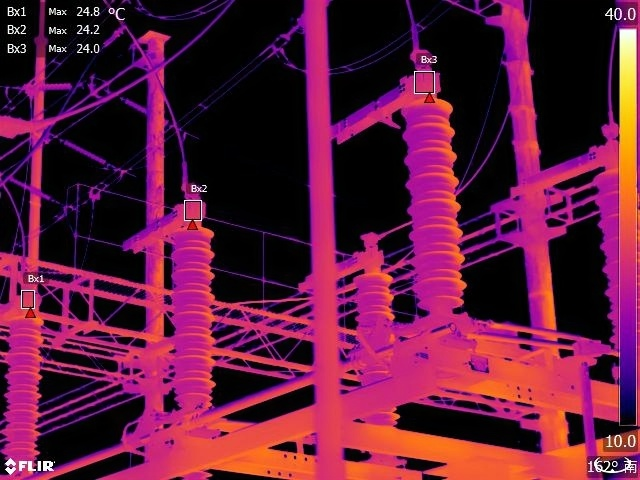post insulator: (403, 98, 470, 304), (592, 170, 640, 392), (170, 230, 220, 404), (354, 275, 407, 427), (1, 317, 49, 471)
switch: (333, 56, 458, 142), (506, 119, 621, 201), (293, 225, 396, 300), (116, 184, 212, 260), (1, 284, 49, 332)
